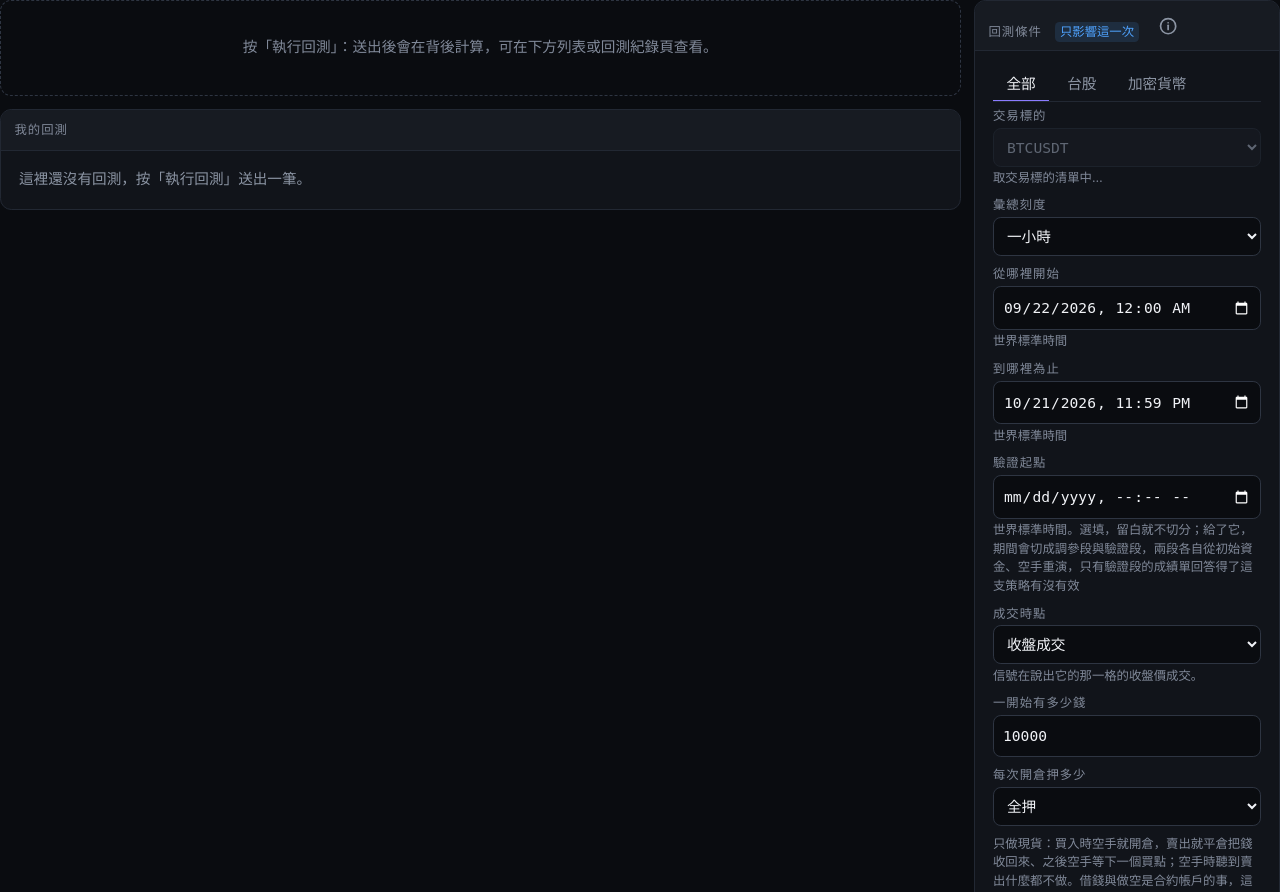
Scenario: StrategyScriptBacktestPane › 押注方式決定旁邊那一格 › 選了百分比就出現一格
Select "可用資金的百分比" in the dropdown with test id "backtest-position-sizing-mode-select" at (1127, 806), box x1=993 y1=787 x2=1261 y2=826
(page scrolled)
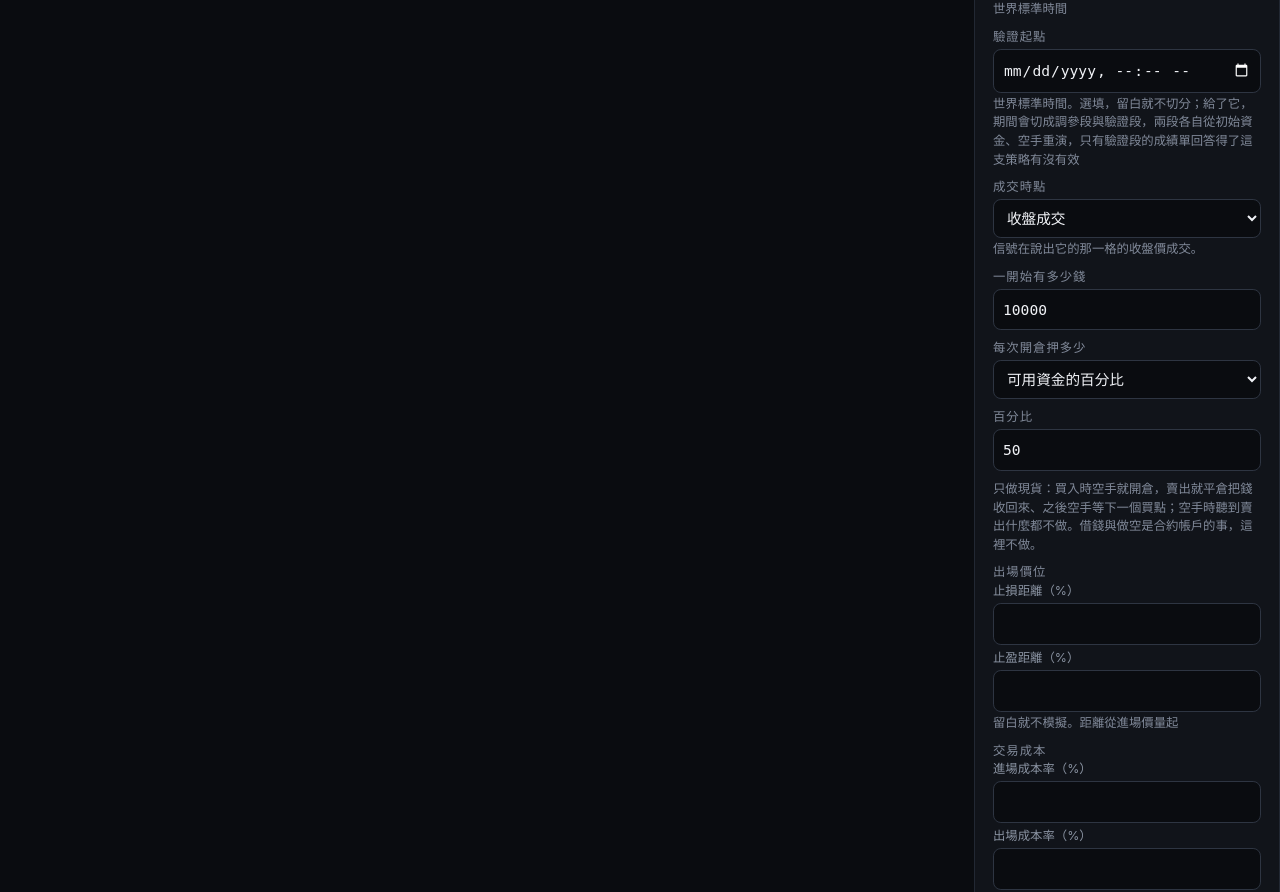
expect the number field with test id "backtest-position-sizing-value-input" is shown: met, box x1=993 y1=429 x2=1261 y2=471
